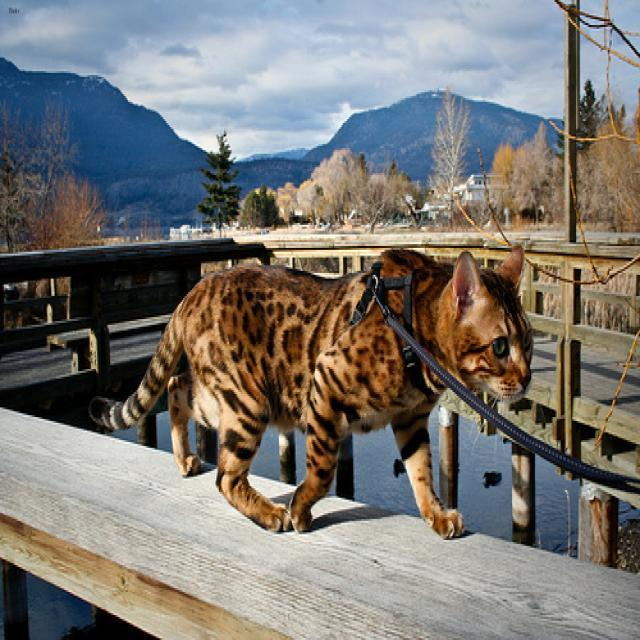Bengal: (428, 245, 534, 408)
